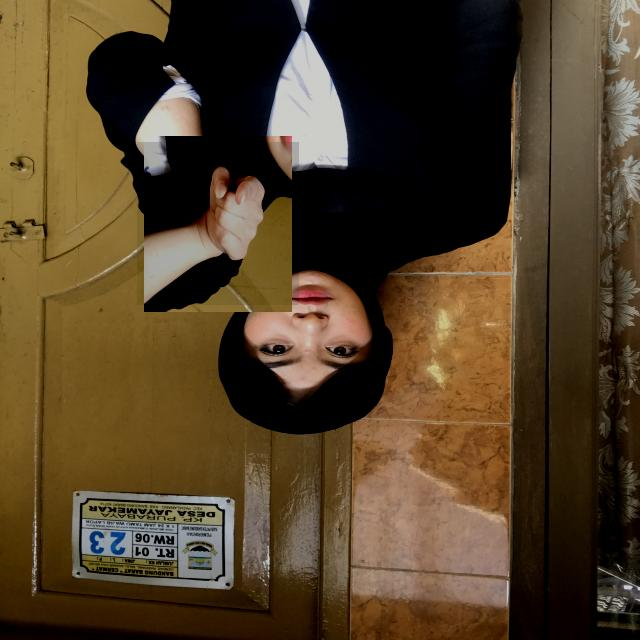kamu: (137, 142, 299, 305)
